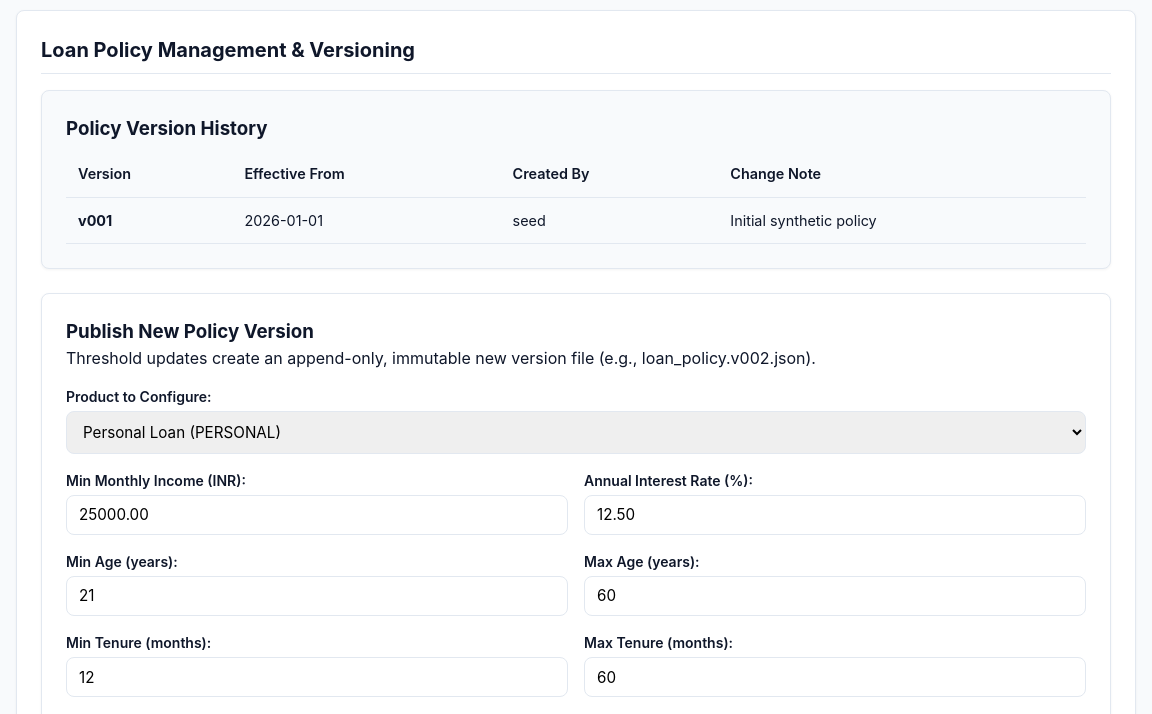
Test: PolicyEditor Component › submits updated policy thresholds and displays new version
Step 1. Replace the text in the field with test id "annual-rate-input" with "13.50" → (835, 515), box [584,495,1086,535]
(page scrolled)
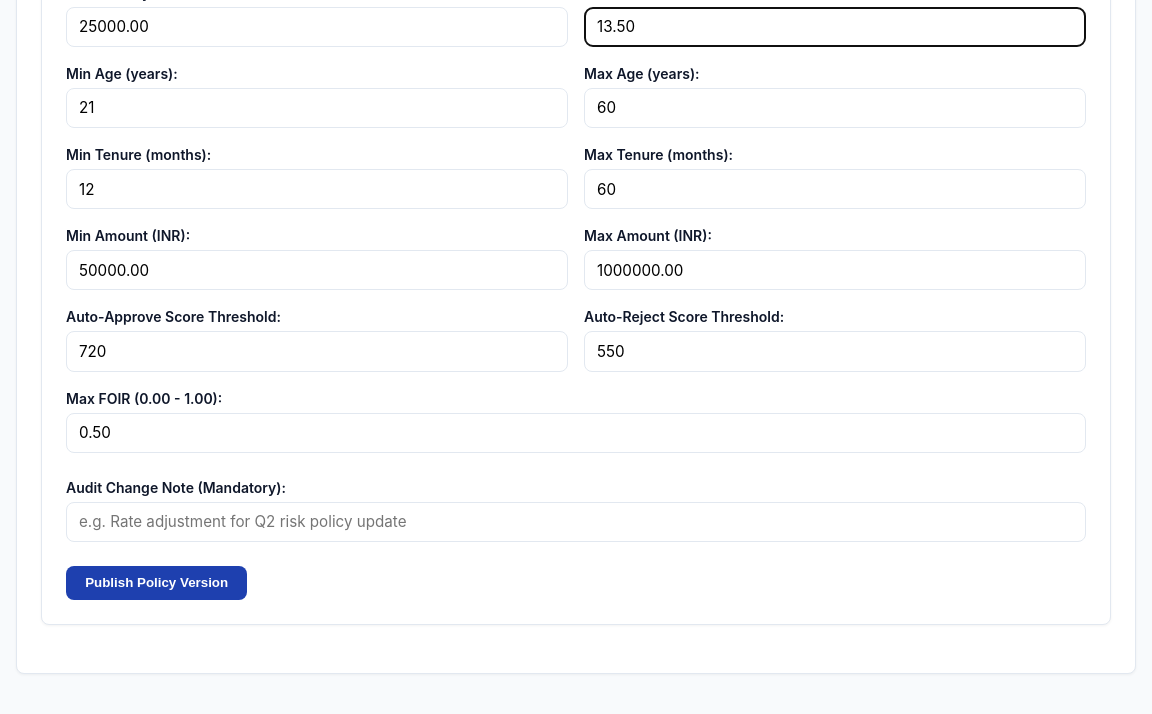
Step 2. Type "Increase PERSONAL interest rate" into the field with test id "change-note-input" → (576, 522), box [66,502,1086,542]
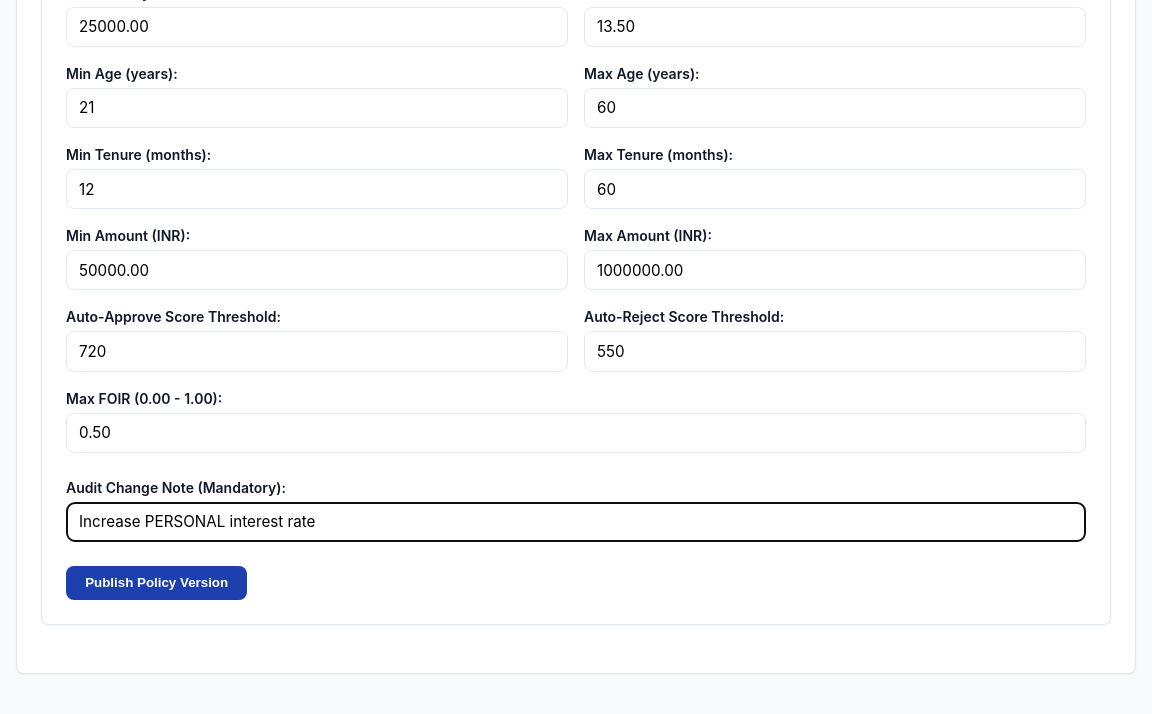
Step 3. Click the button with test id "publish-policy-button" → (157, 583), box [66,566,247,600]
(page scrolled)
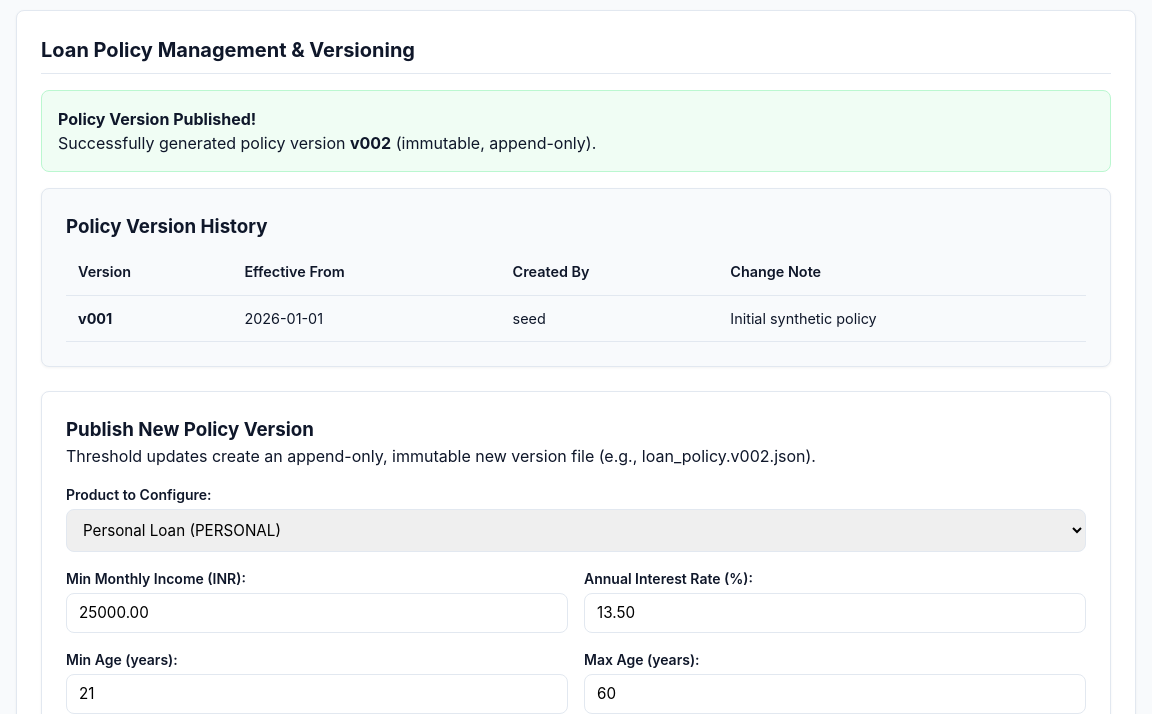
Expected: the text with test id "publish-result-version" reads "2", [381,133,391,153]
